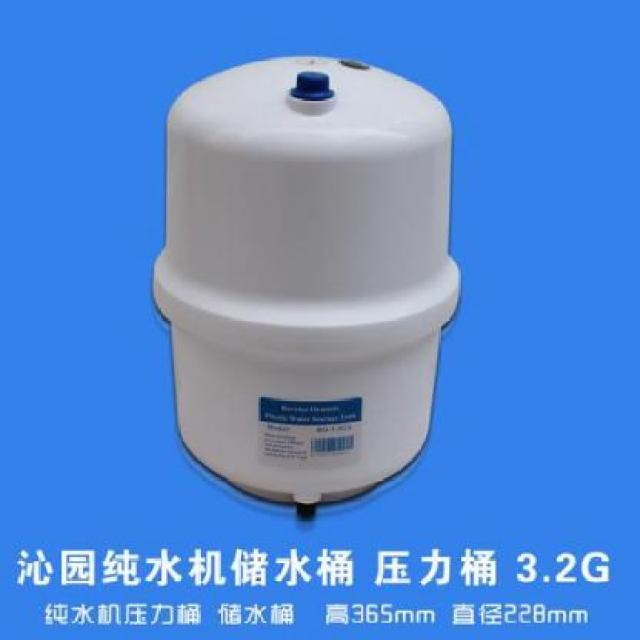coolerbottle: (146, 51, 466, 528)
